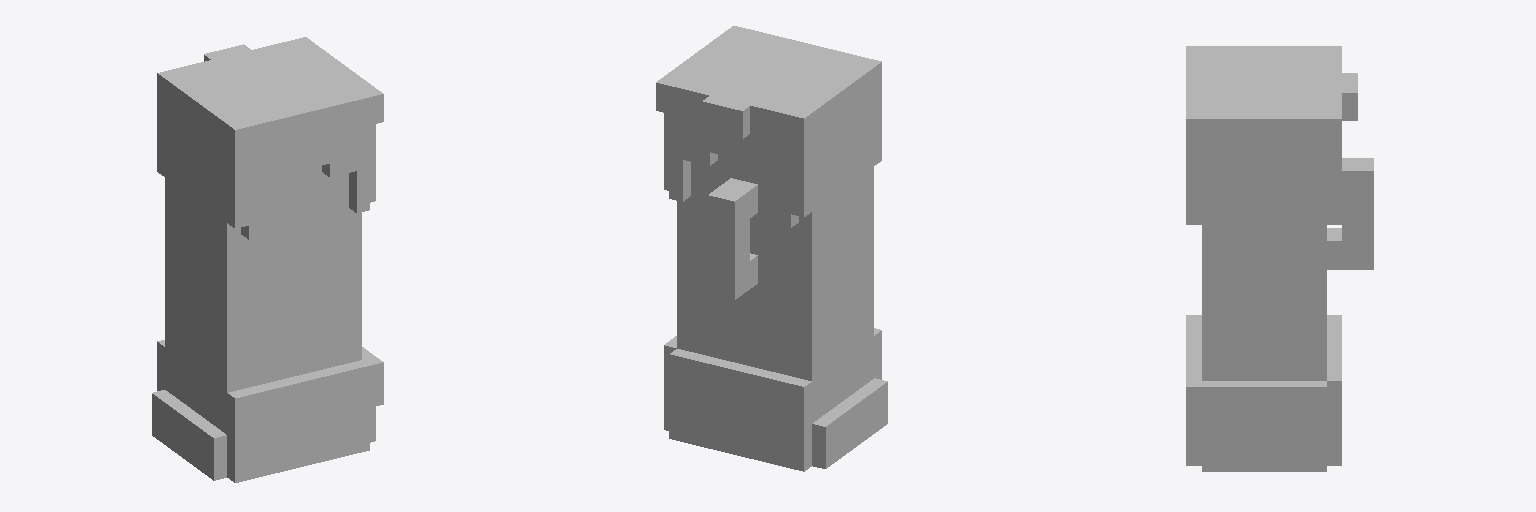
The model's file is Blender.obj.
The picture shows the model from 3 angles: view 1: azimuth 30°, elevation 25°; view 2: azimuth 150°, elevation 25°; view 3: azimuth 270°, elevation 25°; orthographic projection.
Parts seen in each view (by area): view 1: object 1; view 2: object 1; view 3: object 1.
Part boxes in pixels (x1,y1,x2,y2): object 1: (152,37,383,482); object 1: (656,26,887,471); object 1: (1186,46,1373,471).
Bounding box in the file's own units: 1.2 × 2.5 × 1.2.